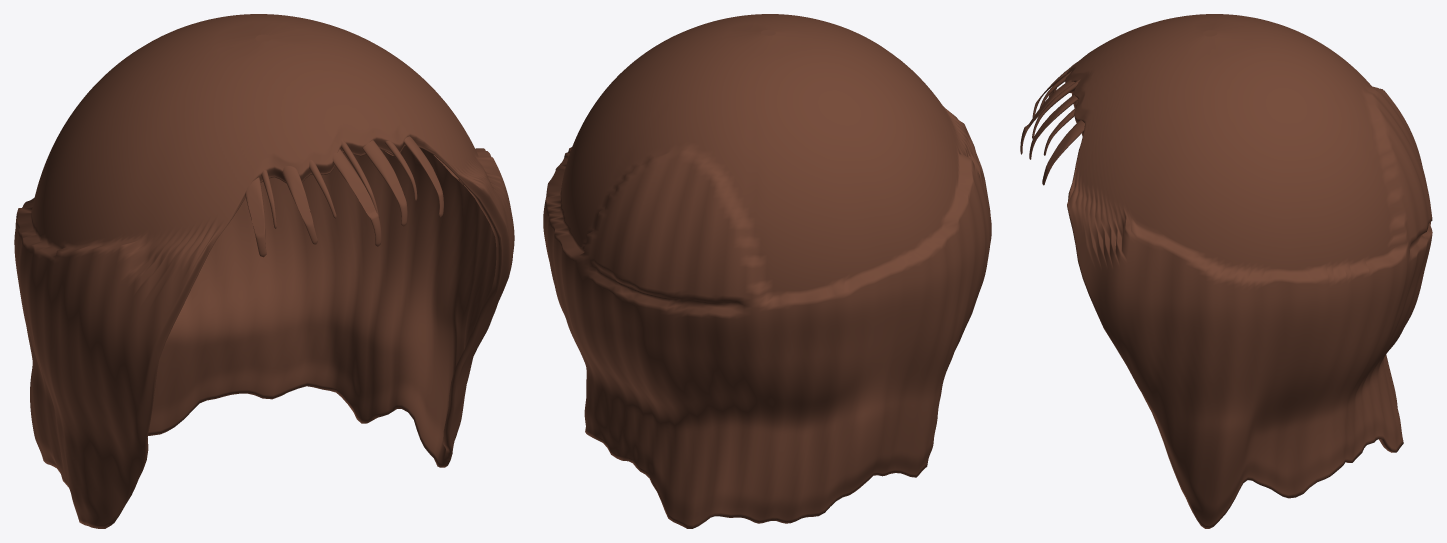
Rendered from side-sweep-cap.glb.
3 renders of one model, left to right at view 1: azimuth 30°, elevation 25°; view 2: azimuth 150°, elevation 25°; view 3: azimuth 270°, elevation 25°, orthographic. The views are drawn at different scales.
Visible parts, largest first — view 1: Hair / layered lob, Fringe / arched wisp 05, Fringe / arched wisp 07, Fringe / arched wisp 01, Fringe / arched wisp 03, Fringe / arched wisp 09; view 2: Hair / layered lob; view 3: Hair / layered lob, Fringe / arched wisp 09.
Boxes of the visible parts, x1,y1,x2,y2 form: Hair / layered lob: [14, 14, 514, 528]; Fringe / arched wisp 05: [332, 149, 381, 246]; Fringe / arched wisp 07: [362, 140, 407, 226]; Fringe / arched wisp 01: [245, 177, 266, 257]; Fringe / arched wisp 03: [282, 166, 317, 244]; Fringe / arched wisp 09: [404, 136, 443, 217]; Hair / layered lob: [543, 14, 991, 528]; Hair / layered lob: [1065, 14, 1432, 528]; Fringe / arched wisp 09: [1042, 120, 1084, 185].
Size of the model in its own units: 0.8388 by 0.8705 by 0.7755.
